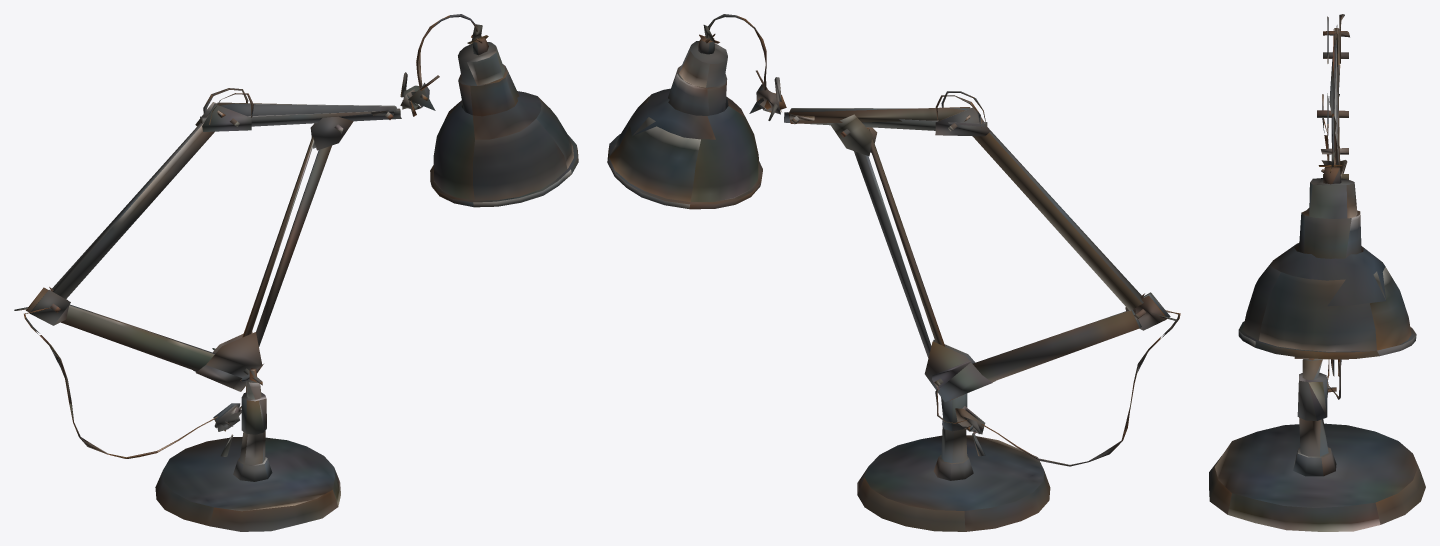
File: office-drafting-lamp.glb
The picture shows the model from 3 angles, left to right: view 1: azimuth 30°, elevation 25°; view 2: azimuth 150°, elevation 25°; view 3: azimuth 270°, elevation 25°; orthographic projection. The views are drawn at different scales.
Visible parts, largest first — view 1: drafting-lamp; view 2: drafting-lamp; view 3: drafting-lamp.
Boxes of the visible parts, x1=… form: drafting-lamp: x1=14, y1=14, x2=578, y2=531; drafting-lamp: x1=607, y1=14, x2=1180, y2=531; drafting-lamp: x1=1209, y1=14, x2=1425, y2=531.
Bounding box in the file's own units: 0.7552 × 0.55 × 0.2222.
Materials: 1 (1 with a texture image).
